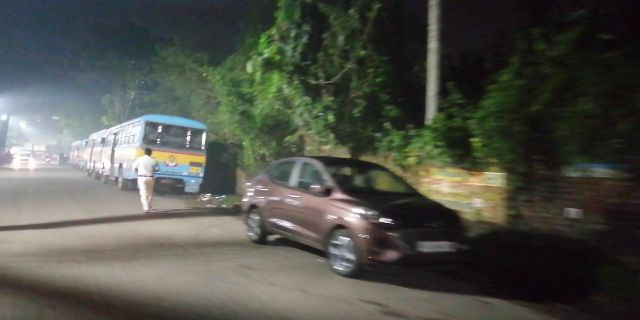Bus: (116, 114, 212, 199)
Car: (237, 149, 471, 276)
